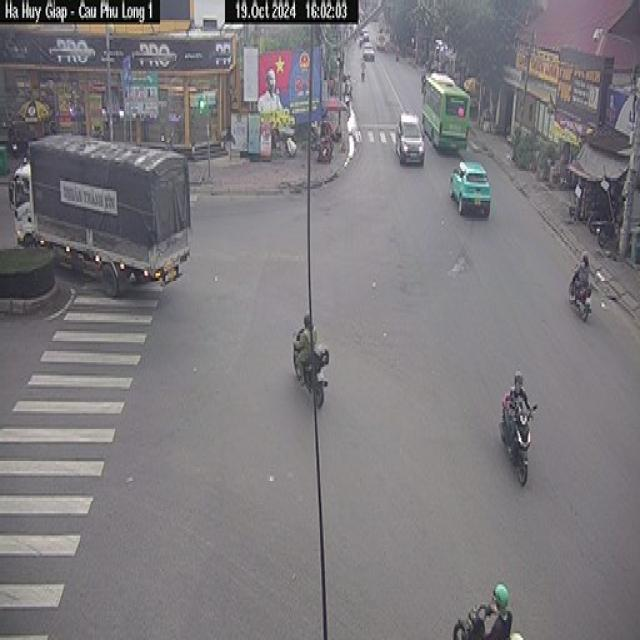bus: (422, 56, 472, 160)
car: (452, 154, 498, 228), (396, 111, 426, 170)
motorcycle: (502, 409, 536, 482), (296, 347, 328, 400), (452, 600, 492, 640), (571, 278, 593, 320)
person: (484, 580, 520, 640), (298, 300, 314, 362), (507, 370, 528, 415), (576, 251, 592, 281)
truck: (11, 126, 190, 288)
